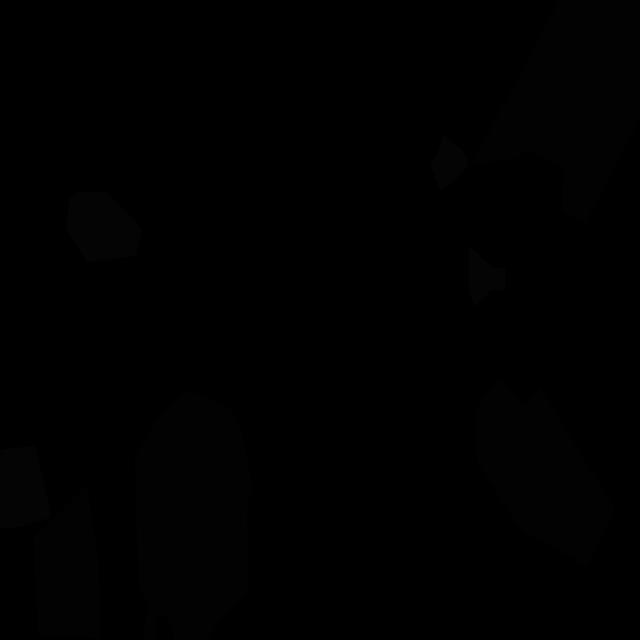cardboard: (472, 0, 640, 224), (134, 390, 253, 640), (475, 379, 614, 566), (33, 485, 101, 639), (144, 608, 157, 640)
soft_plastic: (66, 191, 142, 262), (0, 446, 52, 529), (468, 245, 506, 307), (430, 135, 468, 190)
